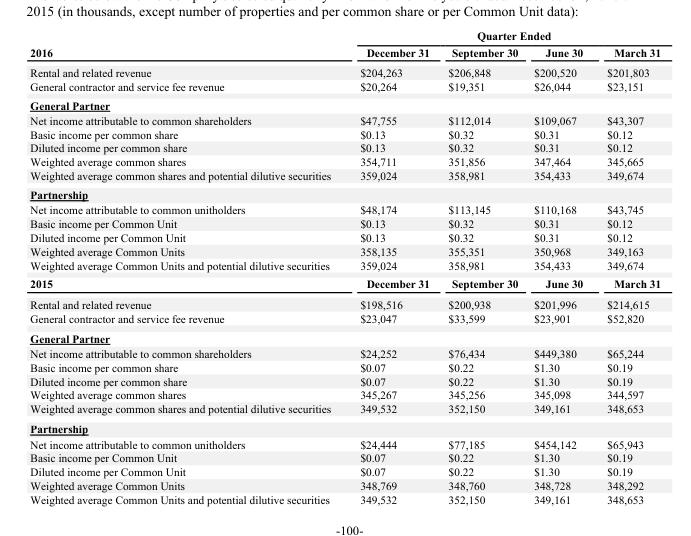table: (29, 29, 660, 505)
table column: (29, 29, 344, 505), (344, 29, 438, 505), (438, 29, 525, 505), (525, 29, 594, 505), (594, 29, 660, 505)
table column header: (29, 29, 660, 61)
table projected row header: (29, 327, 660, 345), (29, 418, 660, 436), (29, 95, 660, 112), (29, 184, 660, 201)
table row: (29, 274, 660, 293), (29, 43, 660, 61), (29, 327, 660, 345), (29, 418, 660, 436), (29, 61, 660, 78), (29, 78, 660, 95), (29, 95, 660, 112), (29, 184, 660, 201), (29, 257, 660, 274), (29, 293, 660, 310), (29, 310, 660, 327), (29, 401, 660, 418), (29, 168, 660, 184), (29, 201, 660, 216), (29, 29, 660, 43), (29, 112, 660, 126), (29, 126, 660, 140), (29, 140, 660, 154), (29, 154, 660, 168), (29, 216, 660, 230), (29, 230, 660, 244), (29, 345, 660, 359), (29, 359, 660, 373), (29, 373, 660, 387), (29, 387, 660, 401), (29, 436, 660, 450), (29, 450, 660, 464), (29, 464, 660, 478), (29, 478, 660, 492), (29, 244, 660, 257), (29, 492, 660, 505)
table spanning cell: (29, 29, 344, 61), (344, 29, 660, 43)
